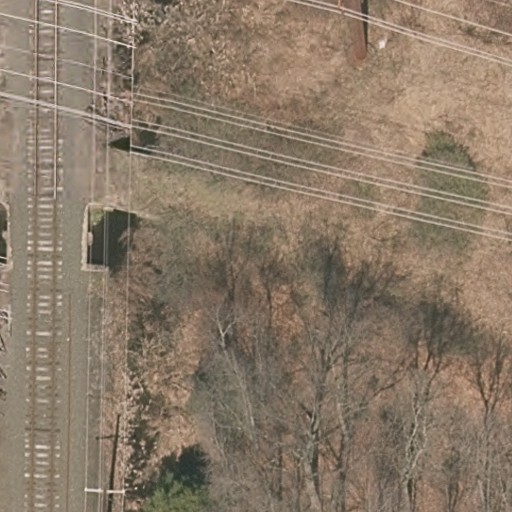DT: (84, 480, 130, 504)
